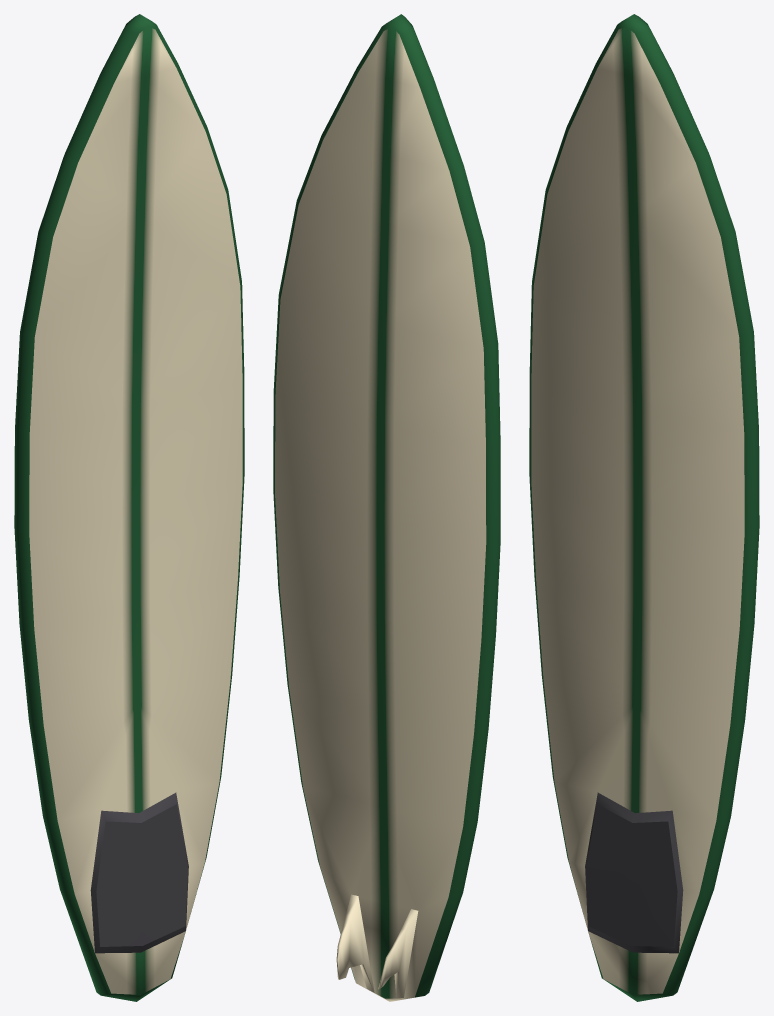
File: Surfboard 1.fbx
3 views of the same model, side by side, from view 1: azimuth 30°, elevation 25°; view 2: azimuth 150°, elevation 25°; view 3: azimuth 330°, elevation 25° (orthographic).
Parts seen in each view (by area): view 1: Surfboard.001; view 2: Surfboard.001; view 3: Surfboard.001.
Part boxes in pixels (left/top/right/bottom): Surfboard.001: left=14, top=14, right=244, bottom=1001; Surfboard.001: left=273, top=14, right=500, bottom=1001; Surfboard.001: left=529, top=14, right=759, bottom=1001.
Size of the model in its own units: 0.8172 by 3.43 by 0.2948.
